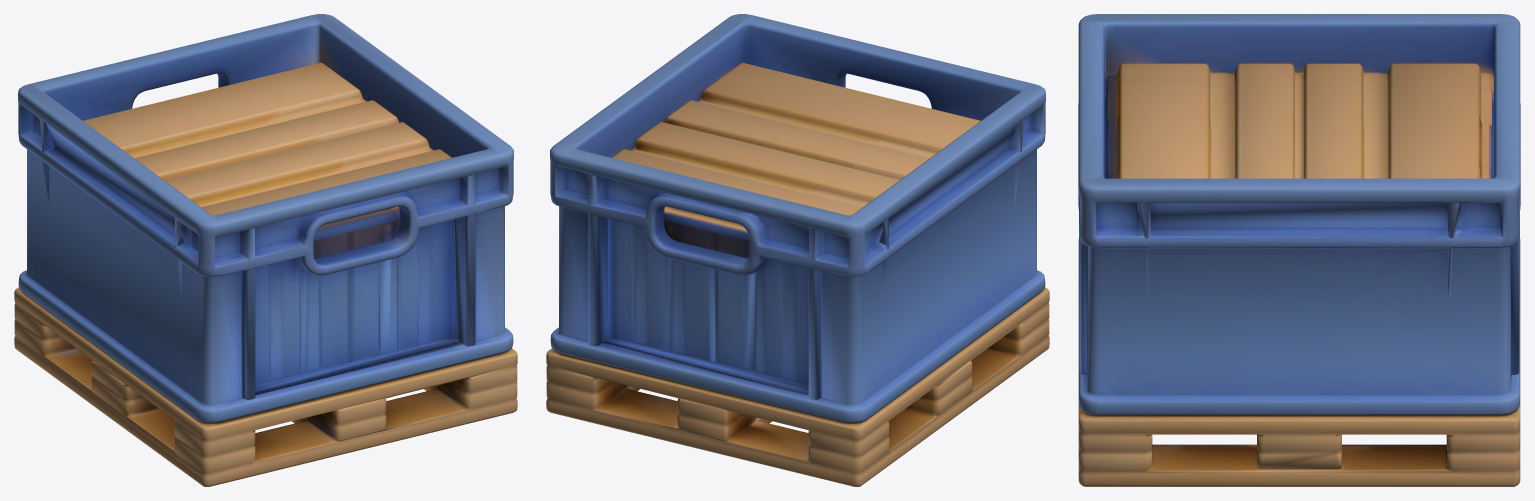
File: warehouse_crate_6e8a0927_v1.glb
3 renders of one model, left to right at view 1: azimuth 30°, elevation 25°; view 2: azimuth 150°, elevation 25°; view 3: azimuth 270°, elevation 25°, orthographic. The views are drawn at different scales.
Parts seen in each view (by area): view 1: material; view 2: material; view 3: material.
Part boxes in pixels (bbox=[...]): material: bbox=[14, 14, 517, 486]; material: bbox=[546, 14, 1049, 486]; material: bbox=[1078, 14, 1520, 486].
Bounding box in the file's own units: 1.79 × 1.42 × 1.9.
Materials: 1 (1 with a texture image).
